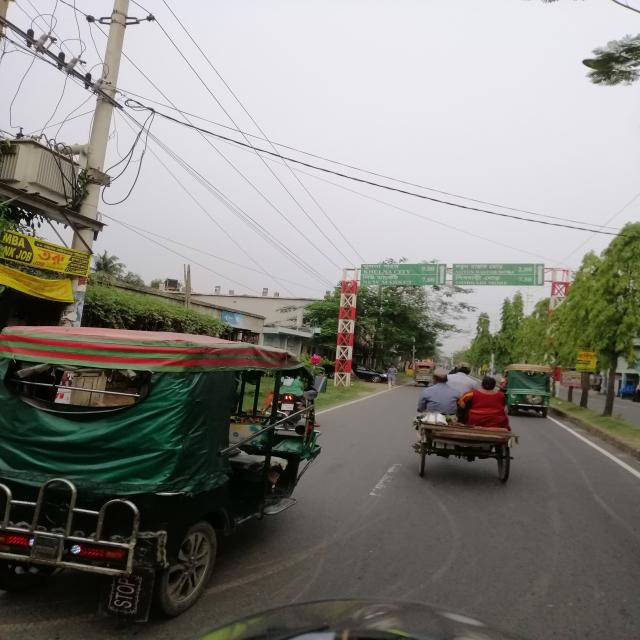Easybike: (1, 324, 333, 640)
